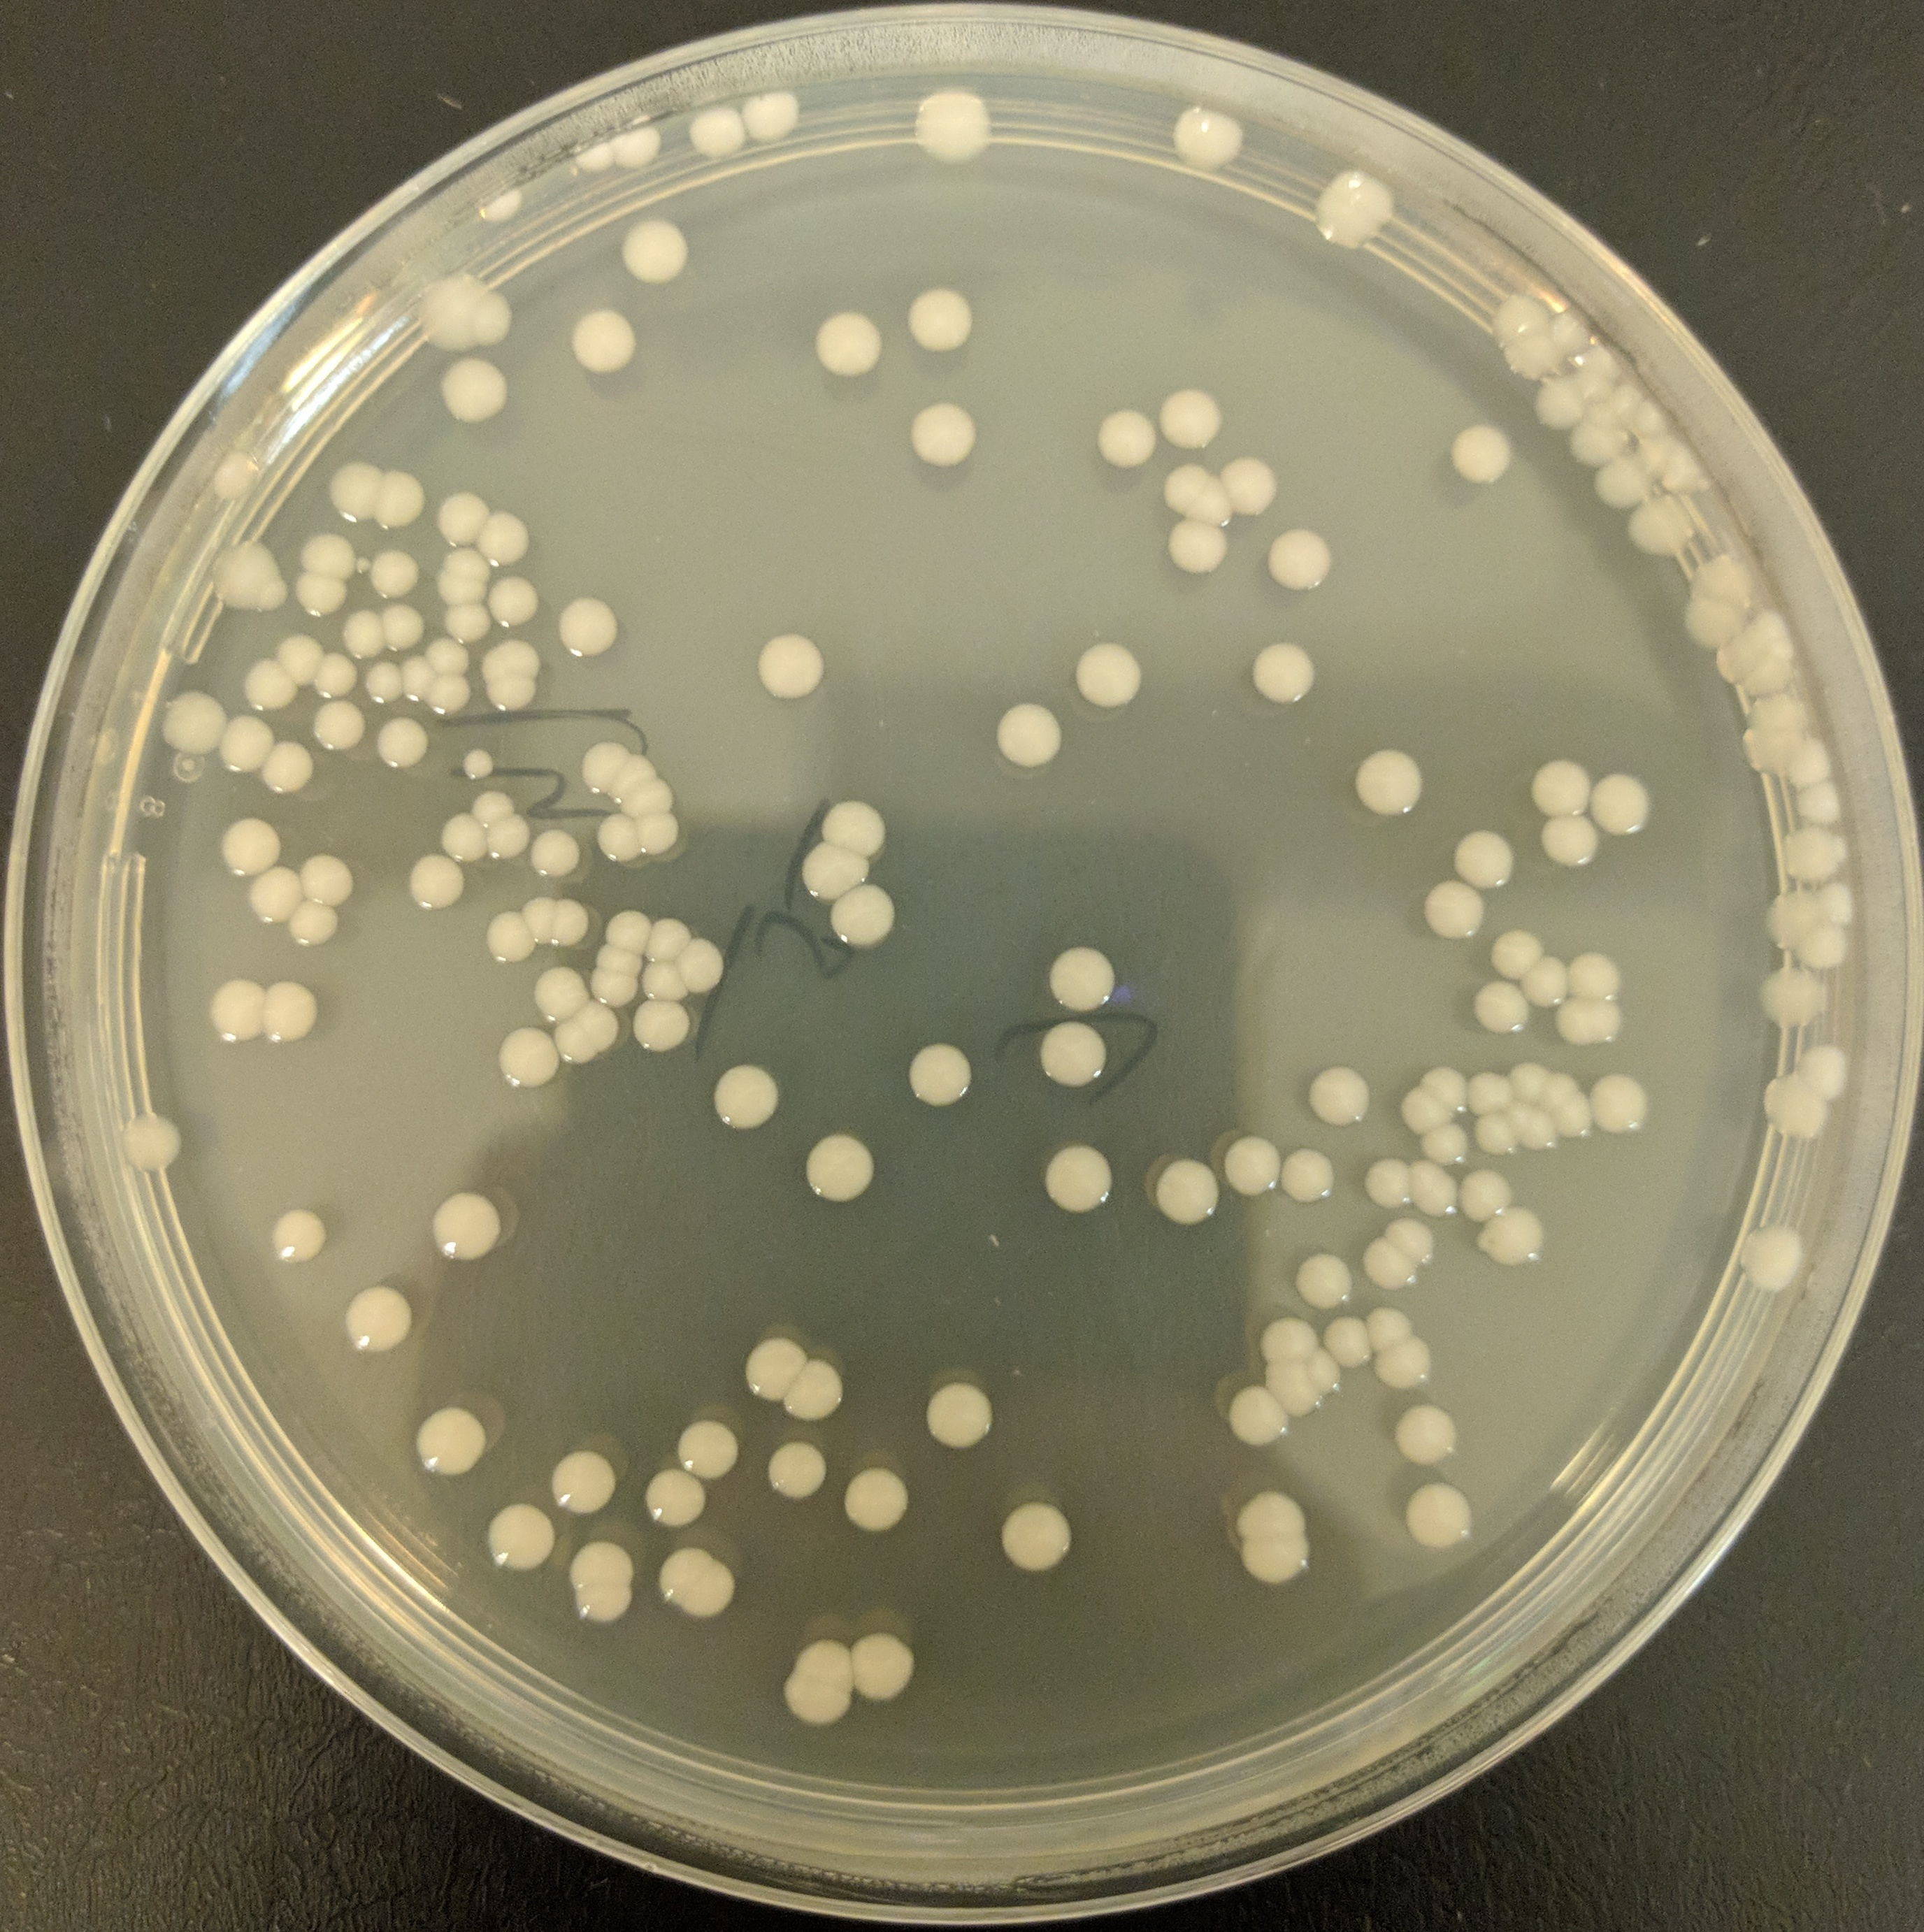sp20: (472, 1492, 569, 1585), (322, 1275, 419, 1361), (1306, 159, 1394, 250), (405, 1391, 492, 1483), (913, 81, 999, 169), (610, 217, 707, 292), (844, 1620, 925, 1710), (900, 1034, 983, 1120), (823, 877, 909, 960), (1161, 102, 1251, 180), (749, 623, 830, 708), (421, 1185, 506, 1266), (800, 1131, 886, 1210), (1036, 1139, 1122, 1217), (107, 1108, 194, 1185), (1346, 743, 1429, 822), (541, 1442, 624, 1522), (564, 308, 648, 386), (1038, 1013, 1115, 1097), (902, 396, 985, 474), (1041, 935, 1124, 1013), (1069, 641, 1154, 717), (1385, 1400, 1469, 1474), (994, 1501, 1078, 1574), (897, 284, 976, 359), (1406, 1474, 1476, 1559), (1247, 636, 1325, 712), (837, 1464, 914, 1539), (703, 1060, 784, 1132), (800, 315, 892, 379), (490, 1021, 567, 1095), (918, 1381, 997, 1453), (1753, 963, 1832, 1034), (1415, 879, 1498, 946), (985, 699, 1068, 766), (1545, 992, 1632, 1055), (671, 1414, 749, 1485), (772, 1668, 856, 1731), (735, 1331, 809, 1404), (1445, 824, 1524, 891), (433, 359, 514, 424), (1586, 1066, 1658, 1138), (1476, 1206, 1549, 1279), (206, 534, 278, 606), (1159, 380, 1230, 454), (1147, 1159, 1221, 1229), (759, 1434, 833, 1504), (1448, 417, 1517, 493), (1755, 881, 1827, 951), (1758, 1076, 1829, 1148), (416, 278, 485, 352), (215, 814, 291, 881), (1230, 1481, 1314, 1541), (1586, 770, 1656, 840), (1217, 1132, 1288, 1203), (1217, 1384, 1290, 1453), (153, 692, 227, 759), (562, 1537, 640, 1601), (809, 791, 890, 851), (1091, 403, 1159, 474), (1263, 527, 1334, 595), (553, 594, 624, 662), (201, 977, 270, 1048), (796, 840, 874, 902), (263, 1203, 333, 1270), (1739, 1220, 1804, 1293), (1679, 594, 1753, 657), (738, 86, 807, 153), (1536, 805, 1603, 874), (793, 1631, 860, 1700), (640, 1462, 707, 1529), (1306, 1064, 1374, 1129), (1619, 495, 1690, 558), (1524, 754, 1595, 817), (781, 1356, 844, 1427), (1237, 1529, 1314, 1585), (233, 650, 296, 719), (1792, 1041, 1859, 1104), (403, 849, 467, 916), (1482, 291, 1554, 349), (627, 997, 699, 1055), (298, 696, 372, 752), (1468, 976, 1533, 1039), (254, 731, 319, 794), (261, 977, 321, 1046), (211, 712, 271, 780), (596, 122, 666, 180), (1350, 1236, 1420, 1294), (292, 851, 363, 909), (1165, 516, 1228, 579), (1288, 1252, 1355, 1312), (370, 712, 437, 771), (1223, 453, 1281, 521), (1686, 546, 1755, 604), (1776, 824, 1845, 882), (1735, 722, 1806, 778), (1561, 946, 1624, 1007), (1455, 1162, 1517, 1226), (477, 572, 544, 630), (322, 461, 379, 528), (645, 1546, 715, 1599), (368, 474, 432, 532), (238, 868, 301, 926), (522, 965, 588, 1020), (1251, 1312, 1321, 1363), (1318, 1312, 1378, 1372), (680, 1566, 744, 1622), (1392, 1081, 1457, 1136), (1743, 683, 1811, 734), (1279, 1145, 1339, 1203), (201, 444, 263, 500), (1522, 949, 1575, 1014), (682, 104, 749, 155), (599, 752, 666, 803), (335, 606, 393, 664), (1487, 925, 1545, 983), (1589, 454, 1649, 511), (433, 488, 488, 549), (571, 736, 634, 789), (680, 932, 731, 997), (569, 1578, 636, 1627), (1531, 380, 1589, 437), (1501, 1097, 1558, 1155), (1381, 1213, 1441, 1268), (1362, 1302, 1417, 1361), (465, 284, 518, 345), (1780, 733, 1832, 794), (1355, 1154, 1417, 1206), (1373, 1337, 1434, 1390), (476, 912, 539, 963), (477, 511, 529, 572), (1566, 417, 1632, 465), (366, 549, 423, 604), (294, 527, 356, 576), (1797, 925, 1859, 974), (477, 666, 546, 710), (617, 773, 682, 819), (1468, 1064, 1522, 1118), (474, 638, 544, 680), (599, 905, 652, 962), (546, 1013, 599, 1069), (529, 828, 581, 884), (513, 896, 562, 956), (1156, 461, 1212, 512), (643, 914, 699, 965), (433, 814, 490, 865), (479, 812, 536, 863), (307, 648, 365, 697), (576, 965, 643, 1007), (291, 569, 352, 615), (1413, 1120, 1473, 1166), (1535, 1064, 1584, 1118), (289, 902, 344, 951), (590, 935, 647, 983), (273, 638, 331, 683), (1469, 1104, 1521, 1155), (576, 993, 622, 1050), (1496, 336, 1554, 380), (423, 664, 470, 717), (1420, 1064, 1473, 1111), (636, 958, 691, 1004), (546, 895, 590, 949), (1624, 389, 1670, 440), (1711, 638, 1757, 689), (1552, 1090, 1596, 1143), (1193, 476, 1235, 530), (416, 634, 470, 676), (382, 597, 423, 653), (638, 803, 682, 854), (1258, 1351, 1313, 1391), (1538, 306, 1587, 350), (594, 814, 643, 858), (1746, 653, 1797, 696), (1402, 1155, 1445, 1206), (474, 183, 532, 220), (433, 548, 492, 585), (1579, 403, 1633, 442), (1797, 775, 1843, 821), (359, 662, 411, 703), (446, 599, 490, 645), (433, 576, 495, 608), (463, 791, 516, 828), (1815, 879, 1861, 921), (1566, 368, 1610, 410), (1508, 1060, 1549, 1104), (562, 137, 611, 173), (458, 745, 499, 785), (1417, 1175, 1459, 1213), (1572, 345, 1623, 377), (400, 659, 435, 703), (1602, 382, 1642, 417), (1748, 606, 1788, 641), (254, 579, 296, 613), (1769, 639, 1797, 662), (351, 553, 370, 574)
